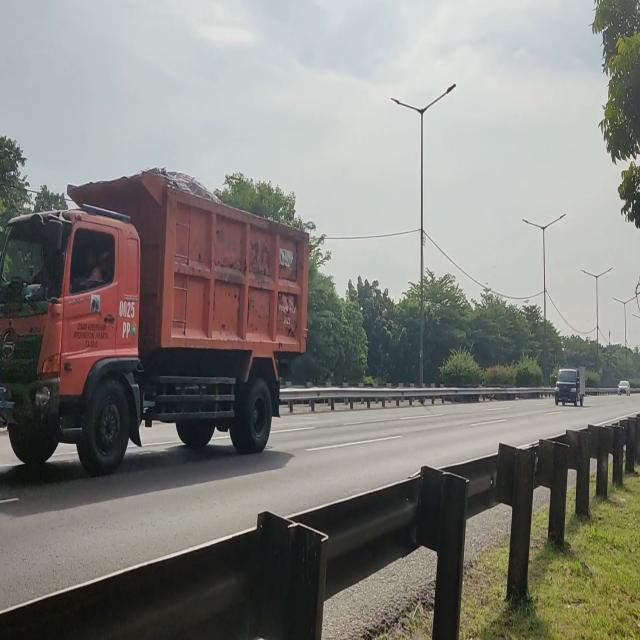Golongan II: (0, 178, 307, 481)
